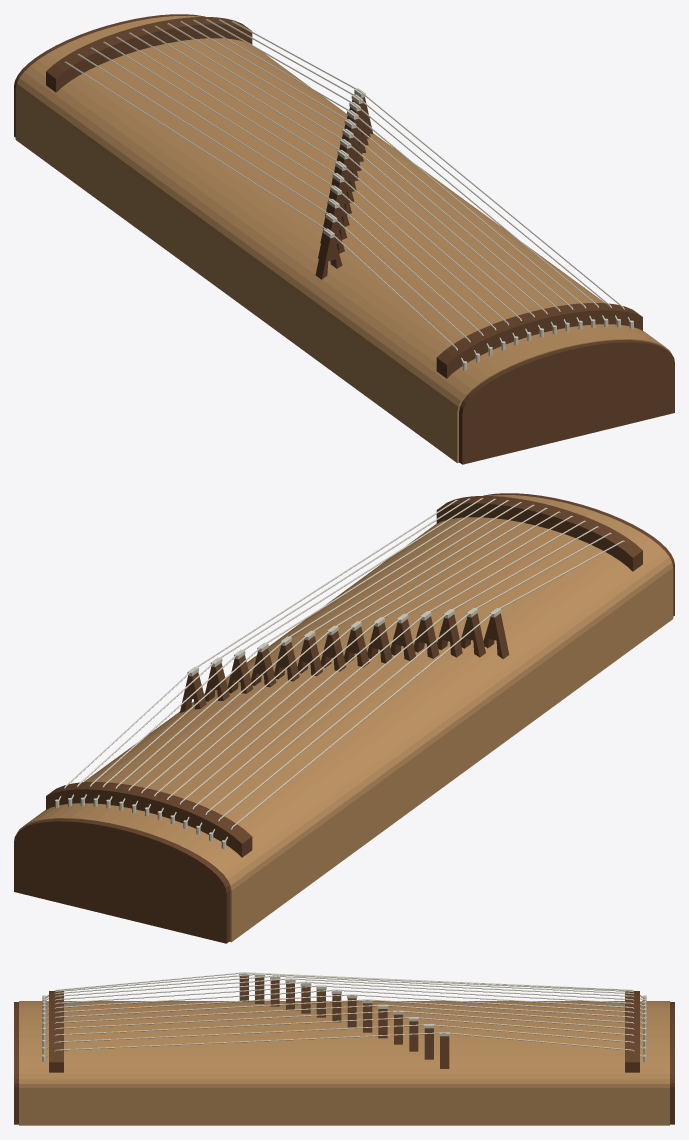
3 views of the same model, one above another, from view 1: azimuth 30°, elevation 25°; view 2: azimuth 150°, elevation 25°; view 3: azimuth 270°, elevation 25° (orthographic). The views are drawn at different scales.
Visible parts, largest first — view 1: WholeGroundFootArchedThinWallSoundboxShell, WholeClosedRearSoundboxEnd, WholeCurvedEndStringBridge_Rear, WholeCurvedEndStringBridge_Front, WholeContinuousLongString_08, WholeContinuousLongString_09, WholeContinuousLongString_01, WholeContinuousLongString_03, WholeContinuousLongString_06, WholeContinuousLongString_11, WholeContinuousLongString_00, WholeContinuousLongString_02 (+8 smaller); view 2: WholeGroundFootArchedThinWallSoundboxShell, WholeClosedFrontSoundboxEnd, WholeCurvedEndStringBridge_Front, WholeCurvedEndStringBridge_Rear, WholeContinuousLongString_08, WholeContinuousLongString_11, WholeContinuousLongString_02, WholeContinuousLongString_03, WholeContinuousLongString_09, WholeContinuousLongString_01, WholeContinuousLongString_06, WholeContinuousLongString_00 (+9 smaller); view 3: WholeGroundFootArchedThinWallSoundboxShell, WholeCurvedEndStringBridge_Rear, WholeCurvedEndStringBridge_Front, WholeContinuousLongString_07, WholeContinuousLongString_13, WholeContinuousLongString_08, WholeContinuousLongString_03, WholeContinuousLongString_06, WholeContinuousLongString_09, WholeContinuousLongString_10, WholeContinuousLongString_01, WholeContinuousLongString_02 (+18 smaller).
Boxes of the visible parts, box(x1,y1,x2,y2) form: WholeGroundFootArchedThinWallSoundboxShell: box(15, 15, 671, 463); WholeClosedRearSoundboxEnd: box(459, 340, 674, 464); WholeCurvedEndStringBridge_Rear: box(436, 303, 642, 378); WholeCurvedEndStringBridge_Front: box(46, 17, 252, 92); WholeContinuousLongString_08: box(167, 23, 566, 323); WholeContinuousLongString_09: box(180, 21, 578, 321); WholeContinuousLongString_01: box(77, 53, 476, 353); WholeContinuousLongString_03: box(102, 41, 501, 341); WholeContinuousLongString_06: box(141, 29, 540, 328); WholeContinuousLongString_11: box(205, 19, 604, 319); WholeContinuousLongString_00: box(64, 61, 463, 361); WholeContinuousLongString_02: box(90, 47, 489, 347); WholeGroundFootArchedThinWallSoundboxShell: box(17, 494, 673, 942); WholeClosedFrontSoundboxEnd: box(14, 819, 229, 943); WholeCurvedEndStringBridge_Front: box(46, 782, 252, 857); WholeCurvedEndStringBridge_Rear: box(436, 496, 642, 571); WholeContinuousLongString_08: box(122, 502, 521, 802); WholeContinuousLongString_11: box(84, 498, 483, 798); WholeContinuousLongString_02: box(199, 526, 598, 826); WholeContinuousLongString_03: box(187, 520, 586, 820); WholeContinuousLongString_09: box(110, 500, 508, 800); WholeContinuousLongString_01: box(212, 532, 611, 832); WholeContinuousLongString_06: box(148, 507, 547, 807); WholeContinuousLongString_00: box(225, 540, 624, 840); WholeGroundFootArchedThinWallSoundboxShell: box(19, 1001, 669, 1125); WholeCurvedEndStringBridge_Rear: box(49, 991, 63, 1072); WholeCurvedEndStringBridge_Front: box(625, 991, 639, 1072); WholeContinuousLongString_07: box(45, 994, 643, 1019); WholeContinuousLongString_13: box(45, 1032, 643, 1057); WholeContinuousLongString_08: box(45, 999, 643, 1024); WholeContinuousLongString_03: box(45, 978, 643, 1003); WholeContinuousLongString_06: box(45, 989, 643, 1014); WholeContinuousLongString_09: box(45, 1004, 643, 1029); WholeContinuousLongString_10: box(45, 1010, 643, 1035); WholeContinuousLongString_01: box(45, 973, 643, 998); WholeContinuousLongString_02: box(45, 975, 643, 1000).
Size of the model in its own units: 0.44 by 0.2508 by 1.58.
